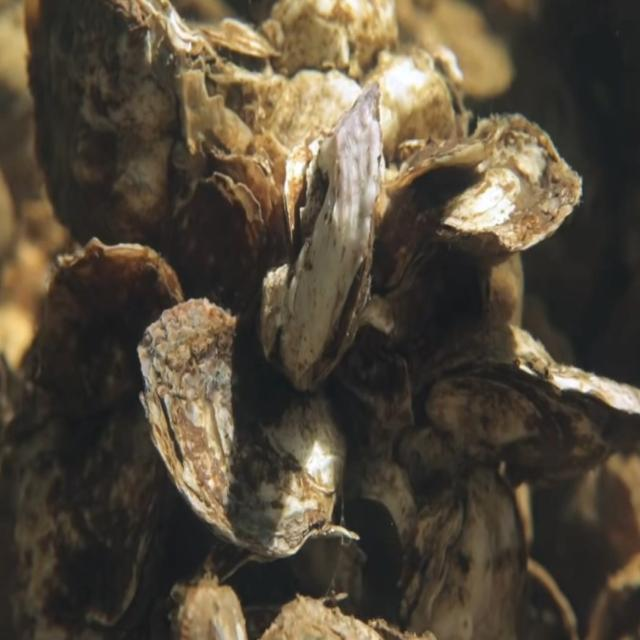Oyster-Closed: (6, 235, 185, 640), (409, 322, 640, 492), (258, 77, 382, 393), (375, 114, 584, 300), (392, 465, 533, 640)
Oyster-Indeterminate: (30, 0, 225, 296), (136, 296, 352, 560), (170, 171, 266, 325)
Oyster-Open: (217, 523, 361, 611)
